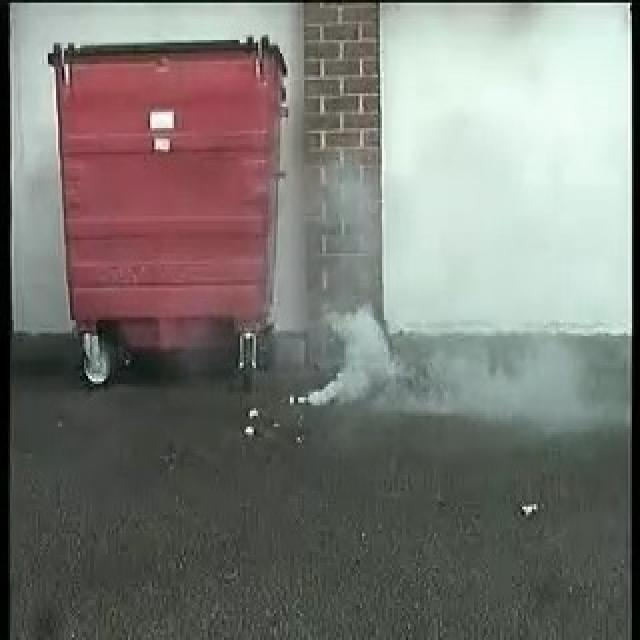smoke: (280, 172, 446, 415)
